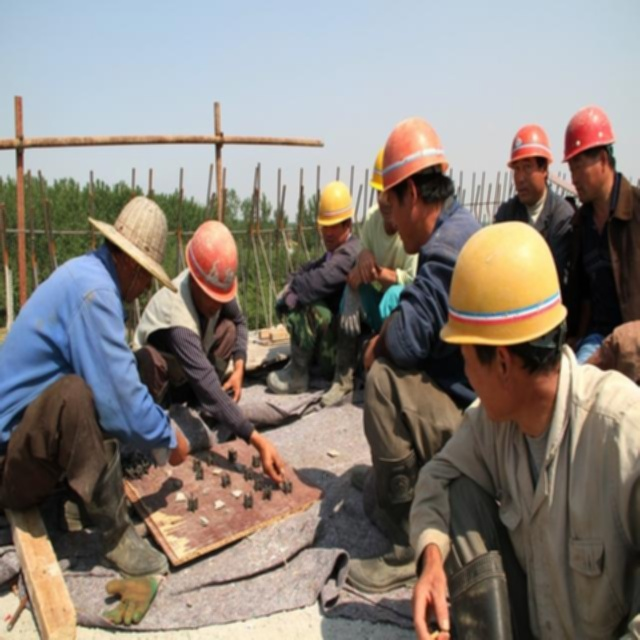Con_Casco: (561, 104, 618, 197), (186, 222, 240, 313), (508, 124, 553, 199), (317, 178, 356, 242)
Sin_Casco_Mascarrilla: (92, 193, 177, 308)
